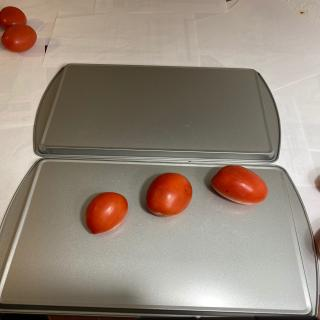Tomato: (211, 165, 268, 205), (146, 172, 193, 218), (85, 192, 128, 234), (1, 24, 37, 52), (0, 6, 27, 29)
